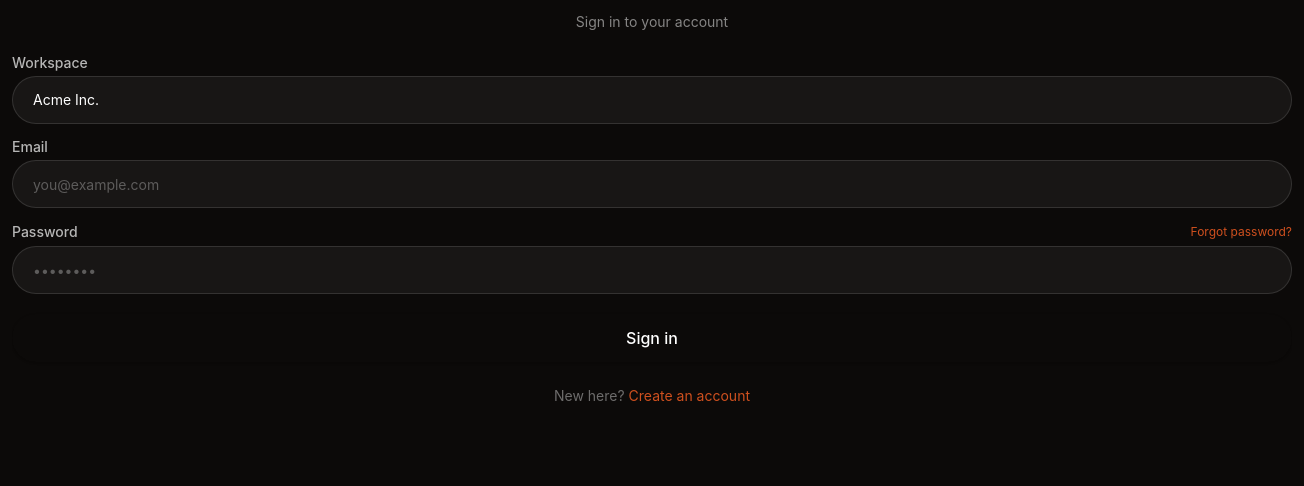
Test: LoginPage › uses auth.internal as fallback when AuthClientError carries no code
This screenshot has width=1304, height=486.
Type "user@example.com" into the field labelled "Email" at (652, 184), box [12, 160, 1292, 208]
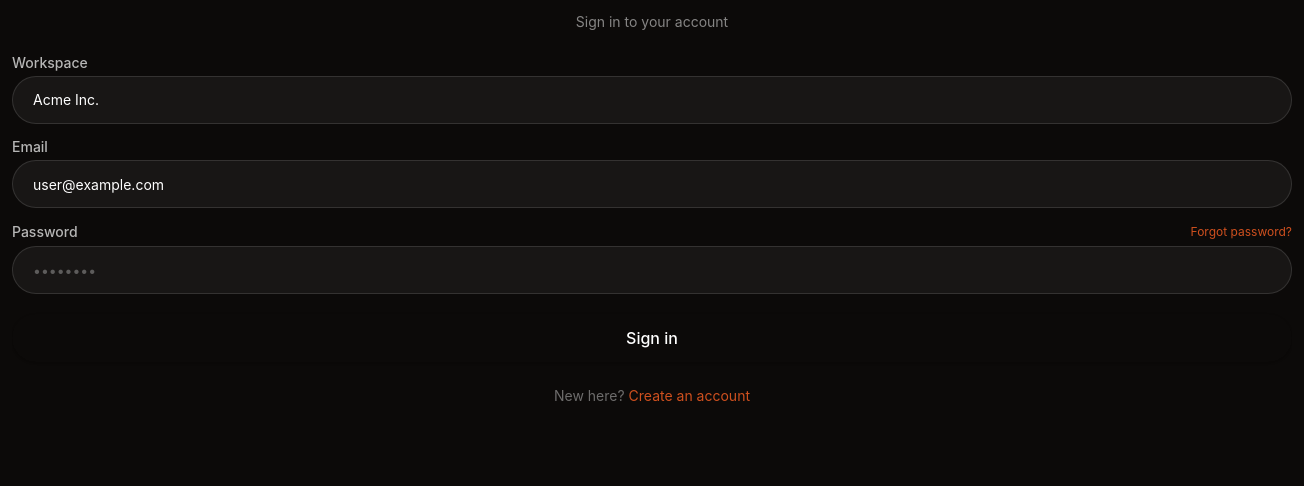
Type "secret" into the password field labelled "Password" at (652, 270), box [12, 246, 1292, 294]
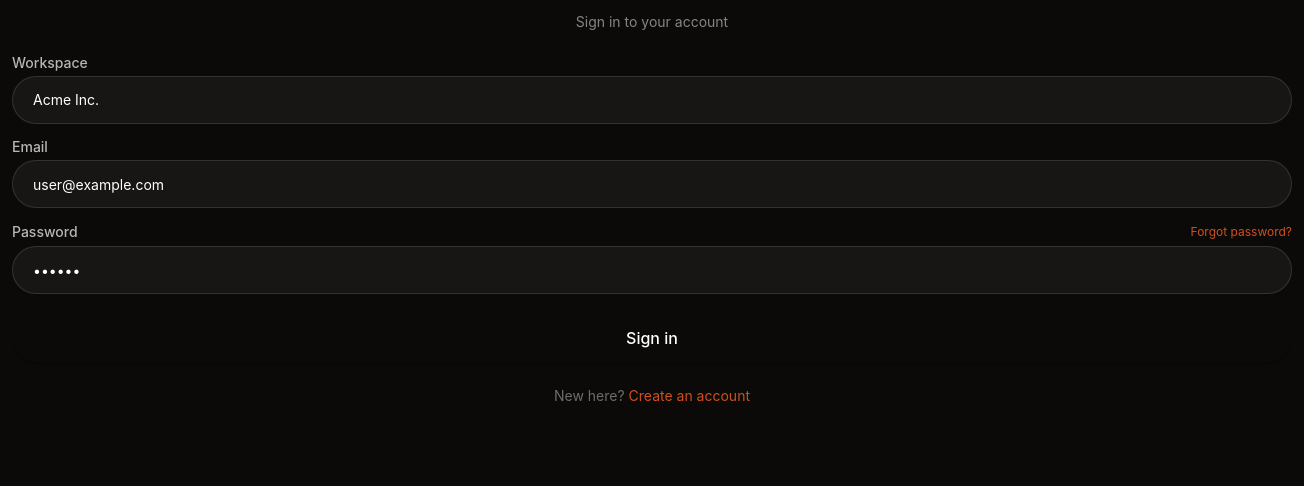
Click the button "Sign in" at (652, 338), box [12, 314, 1292, 362]
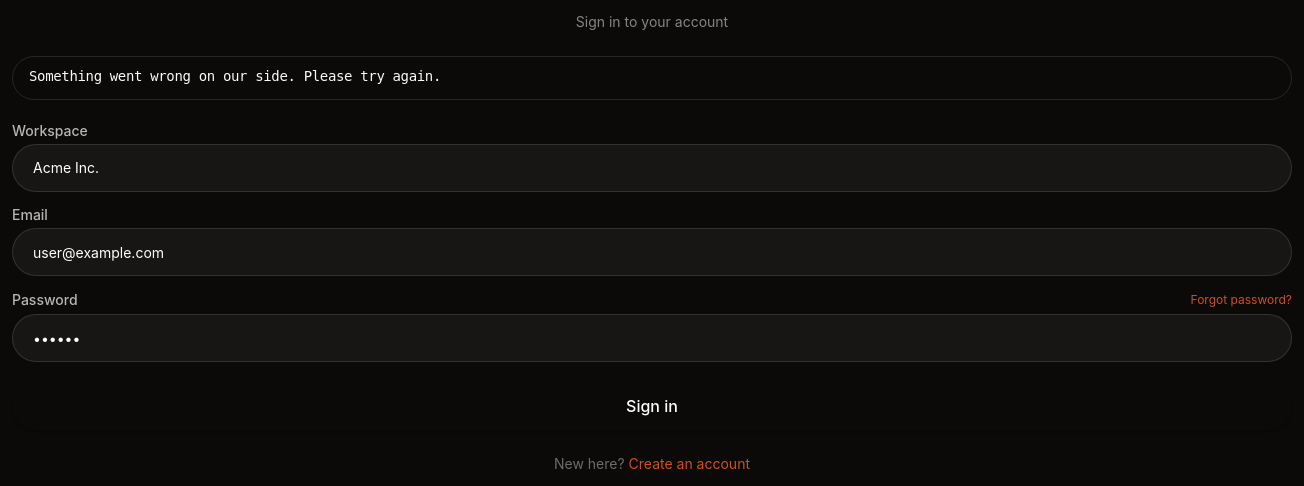
Result: the heading "Something went wrong on our side. Please try again." is shown at [29, 68, 441, 84]
